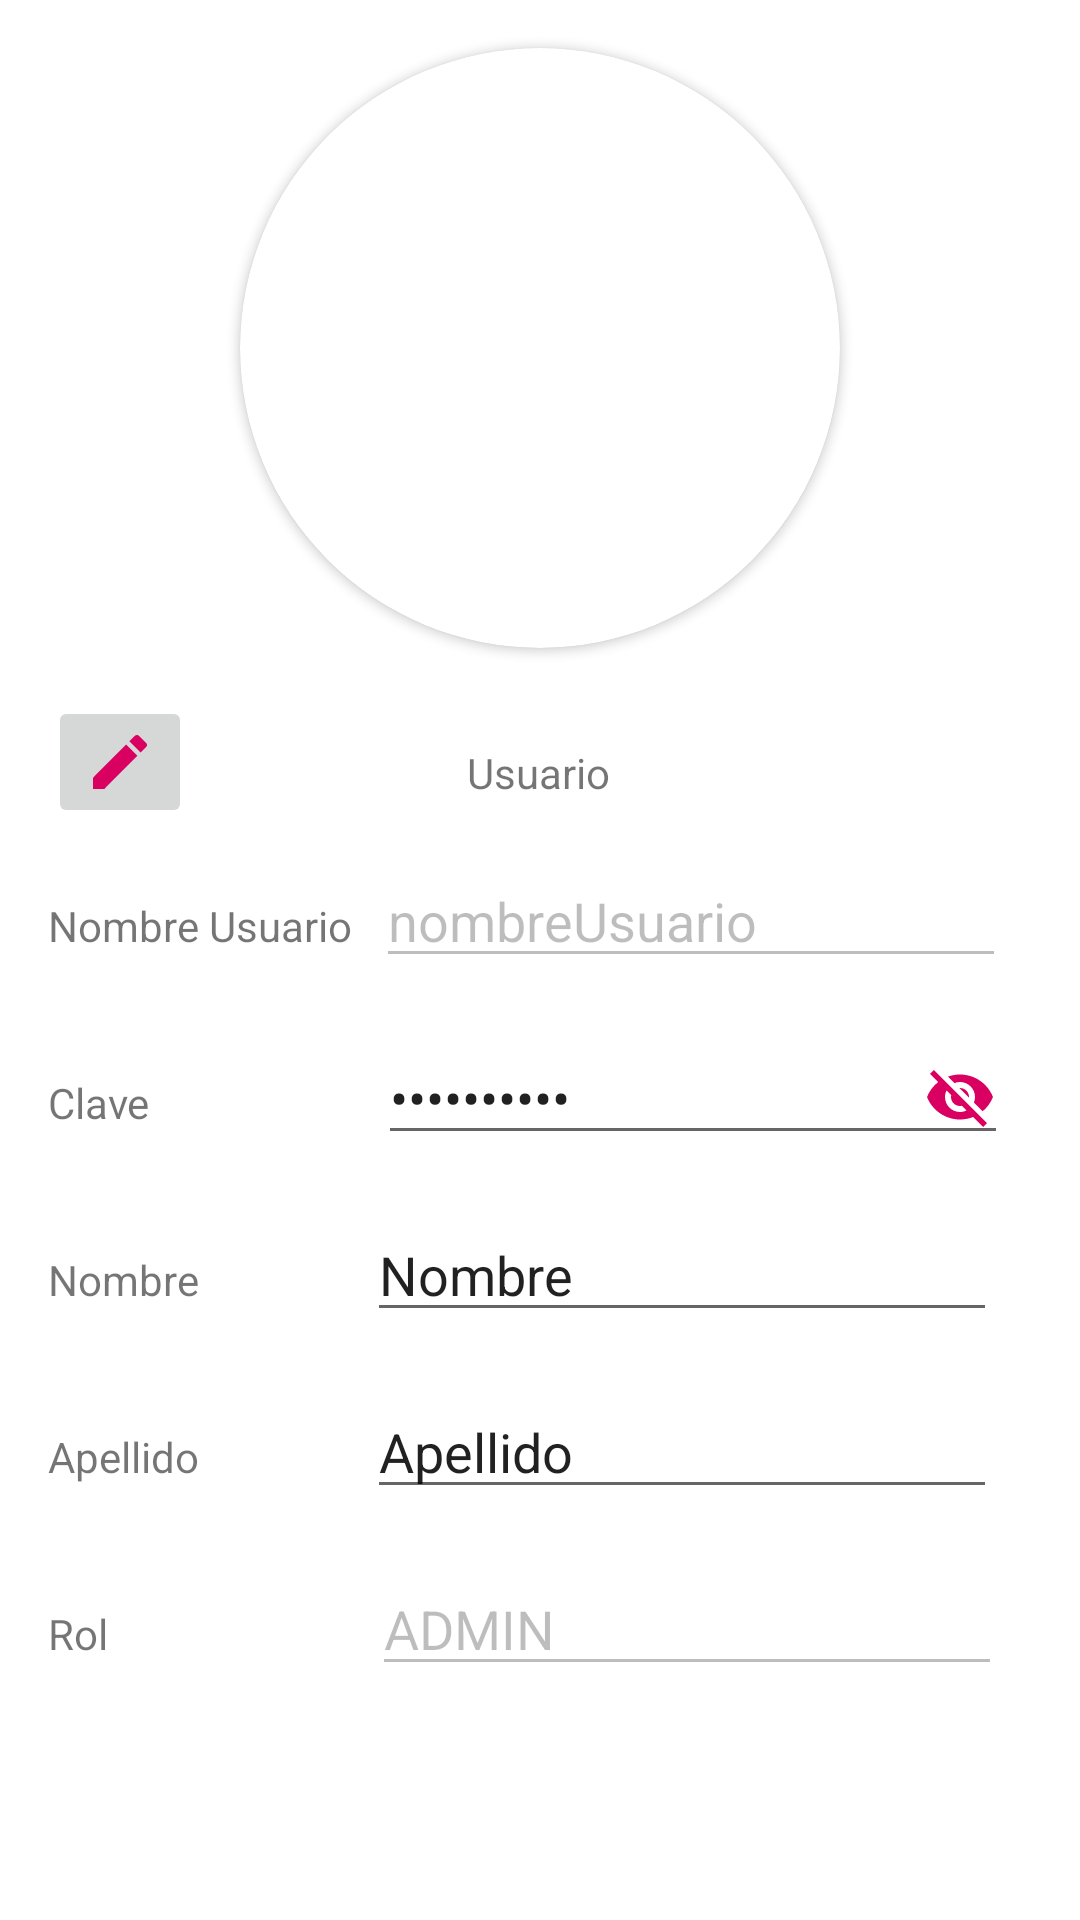

Screen size 1080*1920. Icon name, then its center in pixels as (x,y):
edit first: (120,762)
